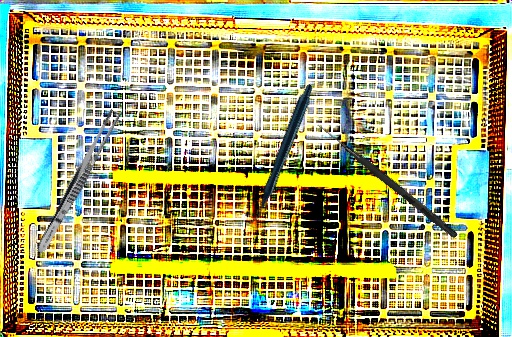Dressing Forceps: (33, 107, 122, 257)
Handpiece: (203, 83, 356, 225)
Hook Surgical: (314, 122, 460, 239)
